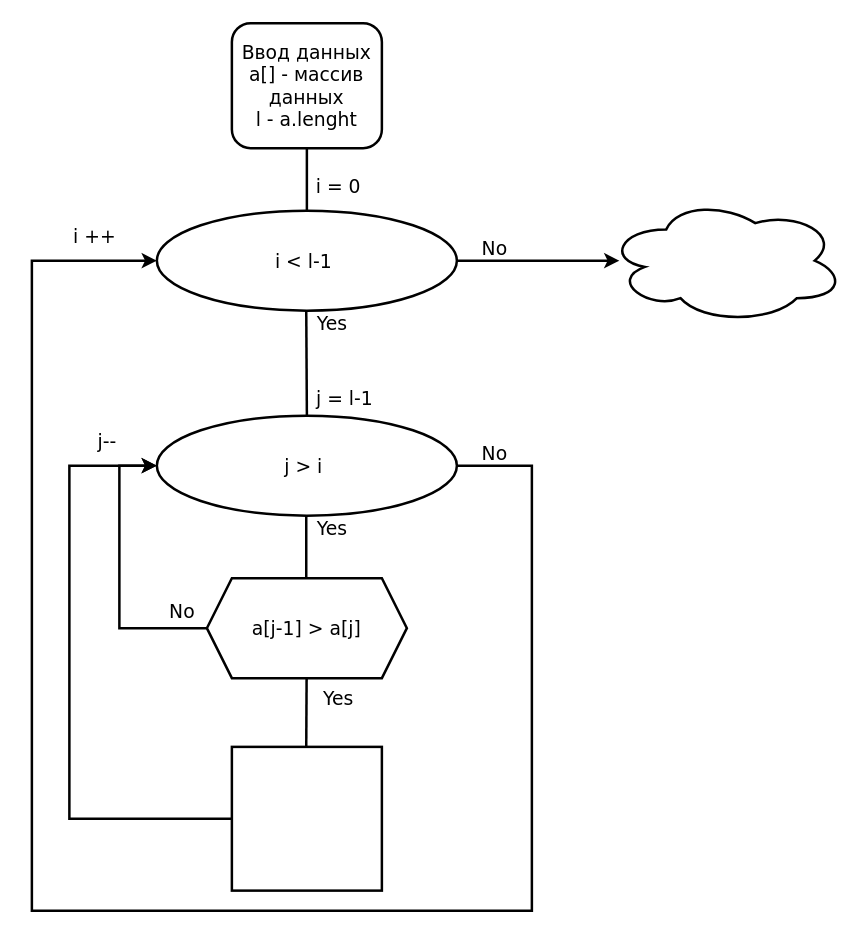
Image size: 866x943. Some labels were removed from this diagram. Here are the shapes that lost their labels. From the top down, the centre of each, then its label:
At point 725,260: "Вывод данных".
At point 306,818: "tmp = a[j-1] a[j-1] = a[j] a[j] = tmp".
